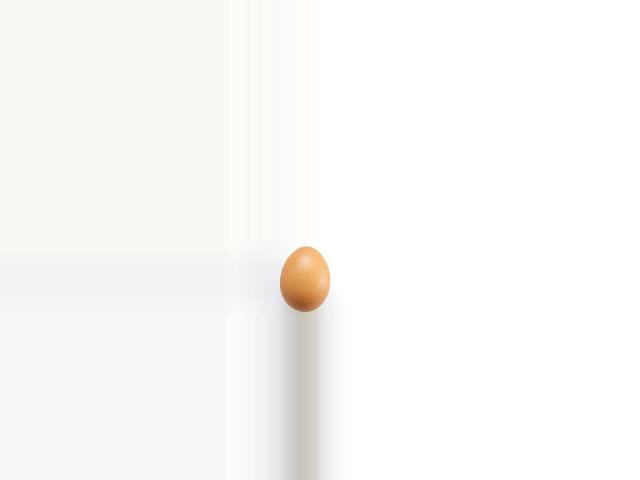egg: (279, 246, 329, 312)
